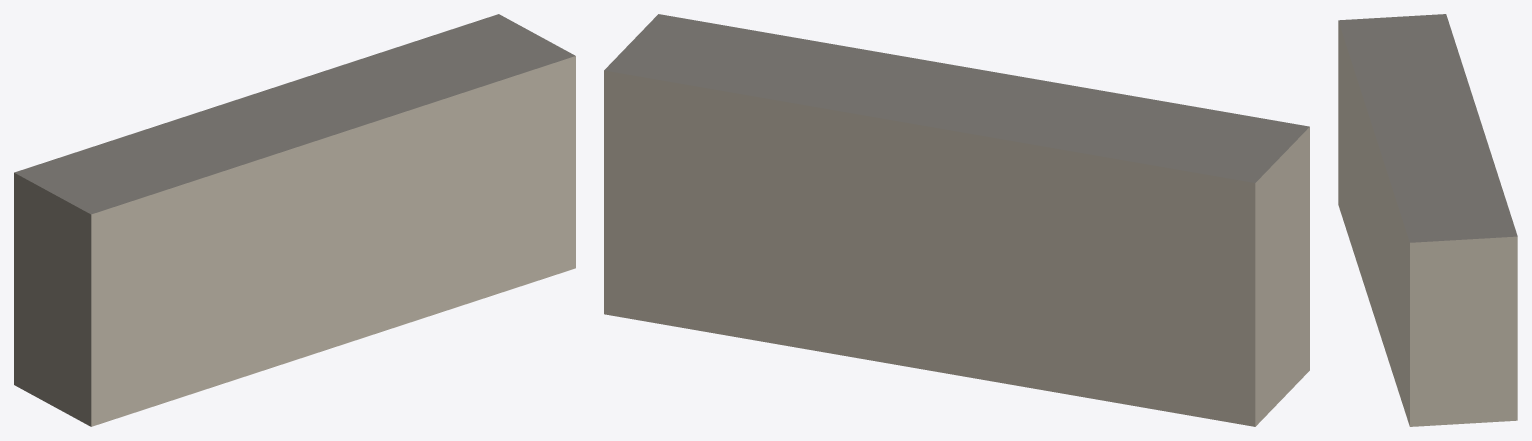
3 renders of one model, left to right at view 1: azimuth 30°, elevation 25°; view 2: azimuth 150°, elevation 25°; view 3: azimuth 270°, elevation 25°, orthographic. The views are drawn at different scales.
Visible parts, largest first — view 1: HP-w1286956113; view 2: HP-w1286956113; view 3: HP-w1286956113.
Boxes of the visible parts, left/top/right/bottom form: HP-w1286956113: left=14, top=14, right=575, bottom=426; HP-w1286956113: left=604, top=14, right=1309, bottom=426; HP-w1286956113: left=1338, top=14, right=1517, bottom=426.
Size of the model in its own units: 47.97 by 18 by 15.91.
